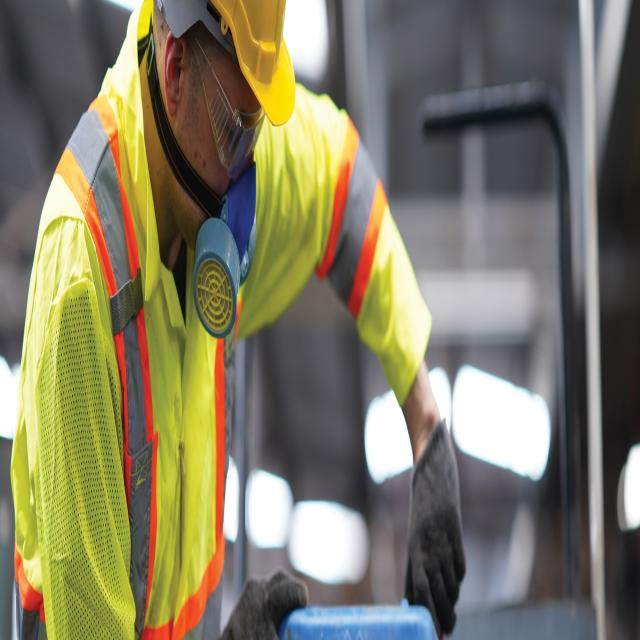goggles: (192, 38, 266, 183)
helmet: (152, 0, 297, 130)
vest: (9, 77, 434, 640)
